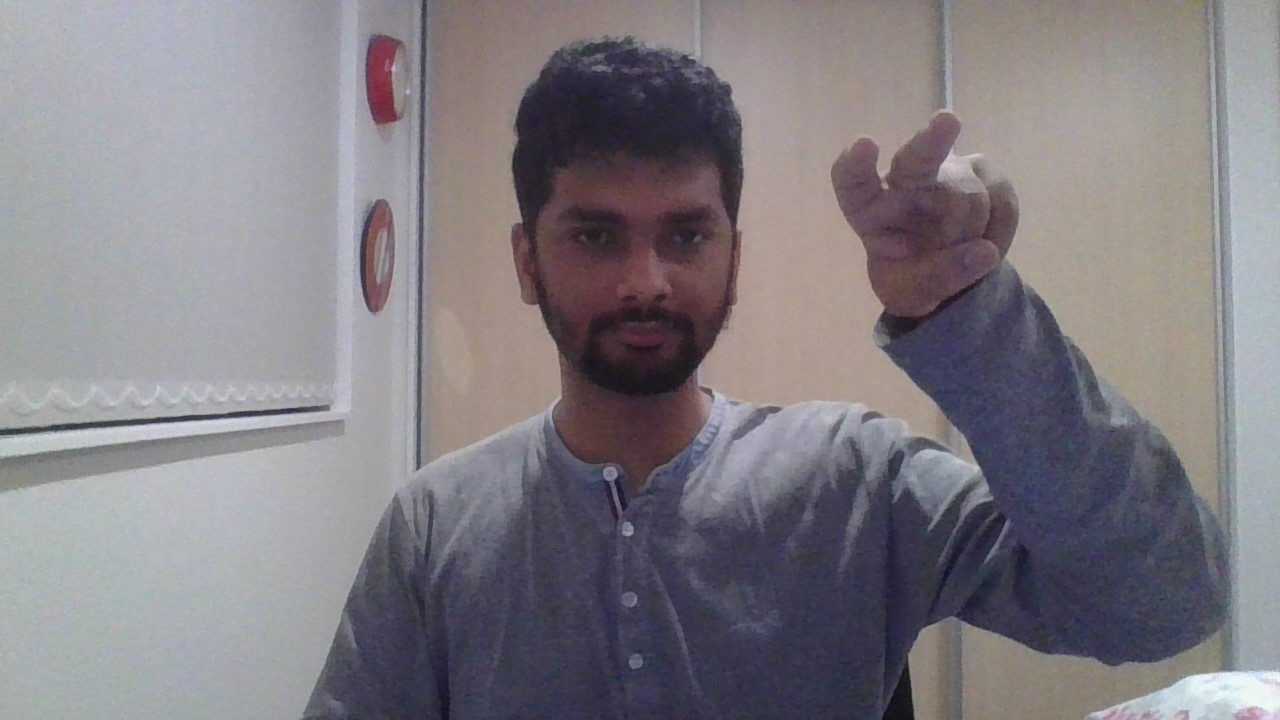look_around: (832, 110, 1020, 319)
